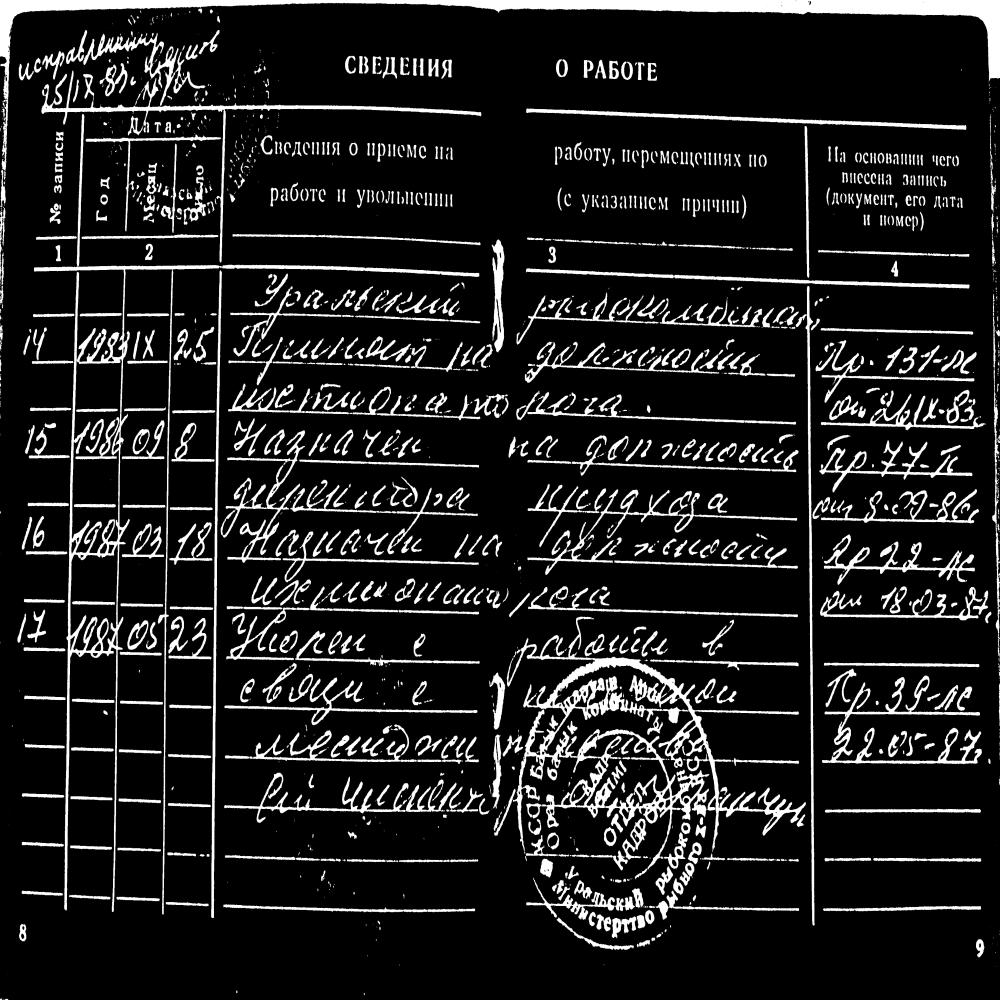rus: (521, 274, 812, 333), (227, 377, 628, 415), (228, 263, 479, 320), (522, 331, 764, 380), (252, 714, 476, 766), (221, 323, 440, 371), (508, 470, 744, 513), (577, 426, 806, 470), (251, 770, 485, 813), (523, 526, 787, 564), (219, 420, 468, 460), (227, 472, 478, 511), (243, 566, 492, 605), (235, 512, 433, 560), (819, 708, 987, 763), (233, 668, 372, 730), (816, 475, 978, 524), (822, 524, 984, 573), (507, 618, 674, 662), (818, 380, 979, 423), (228, 617, 377, 656), (318, 55, 474, 92), (514, 572, 624, 620), (873, 584, 992, 625), (356, 180, 461, 223), (875, 434, 964, 482), (886, 674, 974, 721), (617, 144, 744, 174), (6, 602, 70, 660), (886, 343, 976, 382), (10, 408, 74, 460), (73, 506, 130, 562), (8, 506, 70, 557), (821, 664, 881, 715), (69, 611, 124, 664), (77, 317, 133, 368), (577, 188, 672, 218), (821, 423, 876, 473), (263, 176, 326, 219), (167, 608, 212, 668), (449, 330, 502, 380), (244, 134, 344, 160), (446, 524, 509, 565), (173, 312, 219, 368), (21, 312, 70, 364), (822, 328, 881, 371), (550, 139, 618, 176), (74, 413, 127, 460), (578, 59, 663, 88), (171, 515, 214, 569), (48, 129, 70, 232), (501, 434, 569, 466), (127, 610, 168, 660), (815, 574, 866, 613), (838, 172, 948, 190), (127, 414, 167, 462), (675, 196, 743, 224), (692, 617, 738, 658), (132, 515, 166, 568), (854, 146, 926, 170), (93, 168, 121, 227), (858, 207, 928, 230), (831, 186, 902, 207), (132, 317, 161, 367), (172, 413, 202, 460), (140, 156, 158, 228), (398, 632, 434, 666), (365, 141, 429, 160), (400, 679, 436, 711), (547, 56, 575, 86), (820, 144, 848, 172), (745, 144, 770, 175), (931, 150, 963, 172), (931, 190, 959, 213), (432, 140, 456, 166), (331, 183, 351, 211), (899, 193, 928, 208), (562, 186, 574, 220), (346, 137, 360, 161)
